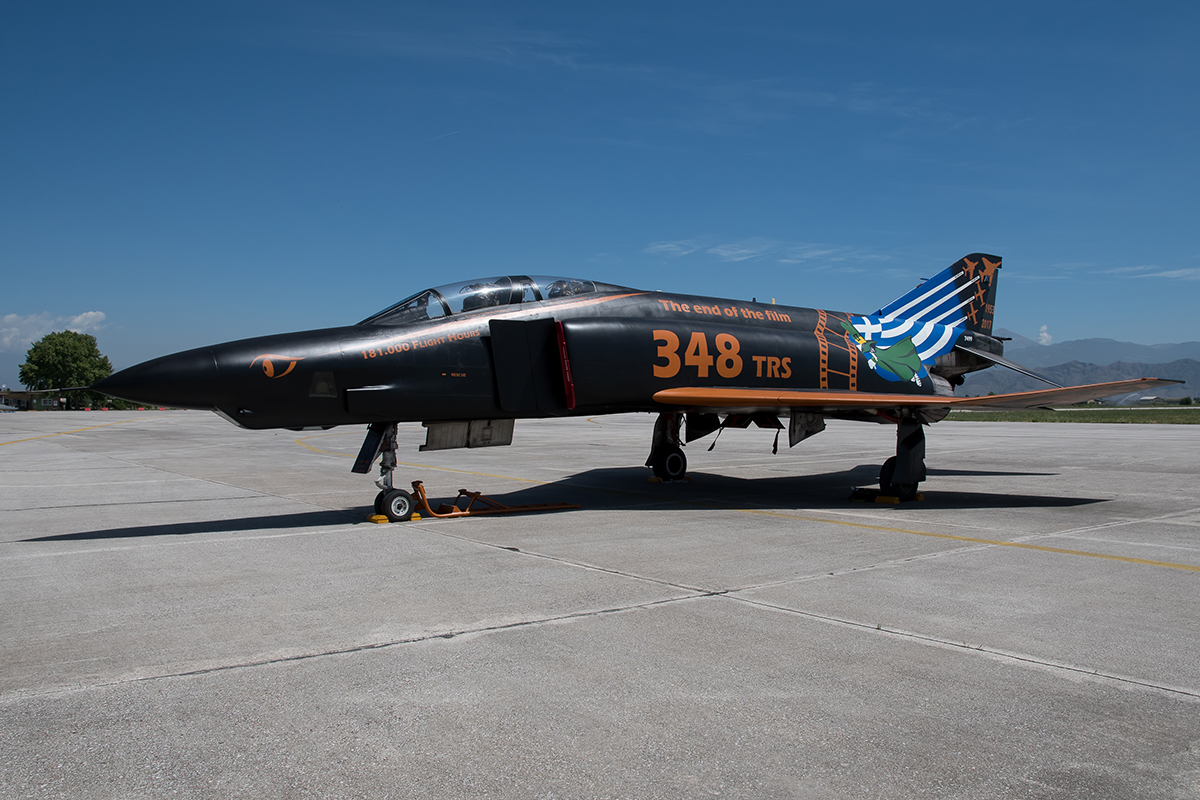F4: (6, 251, 1186, 522)
